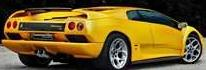back_view: (6, 15, 90, 59)
backlight: (68, 18, 87, 34)
side_glass: (124, 9, 182, 33)
